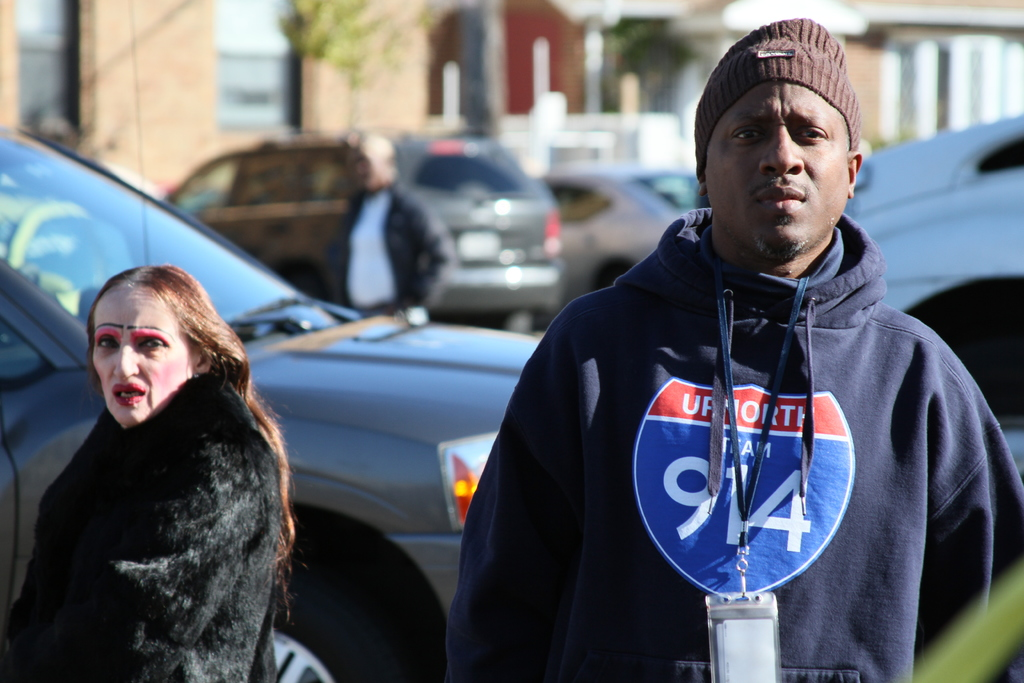car: (1, 110, 582, 683), (150, 128, 574, 316), (513, 138, 717, 307)
